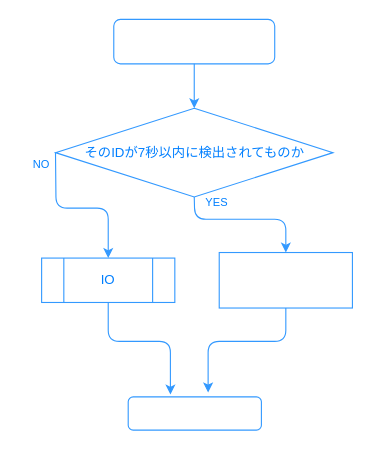
The diagram is 372 pixels wide and 450 high, and some of its shapes have lost their labels. The centre of each missing label's shape, as x and y in pixels:
"データベースのIDを取得" belongs at (x=194, y=41).
"次にタッチができるまでの秒数を表示" belongs at (x=285, y=279).
